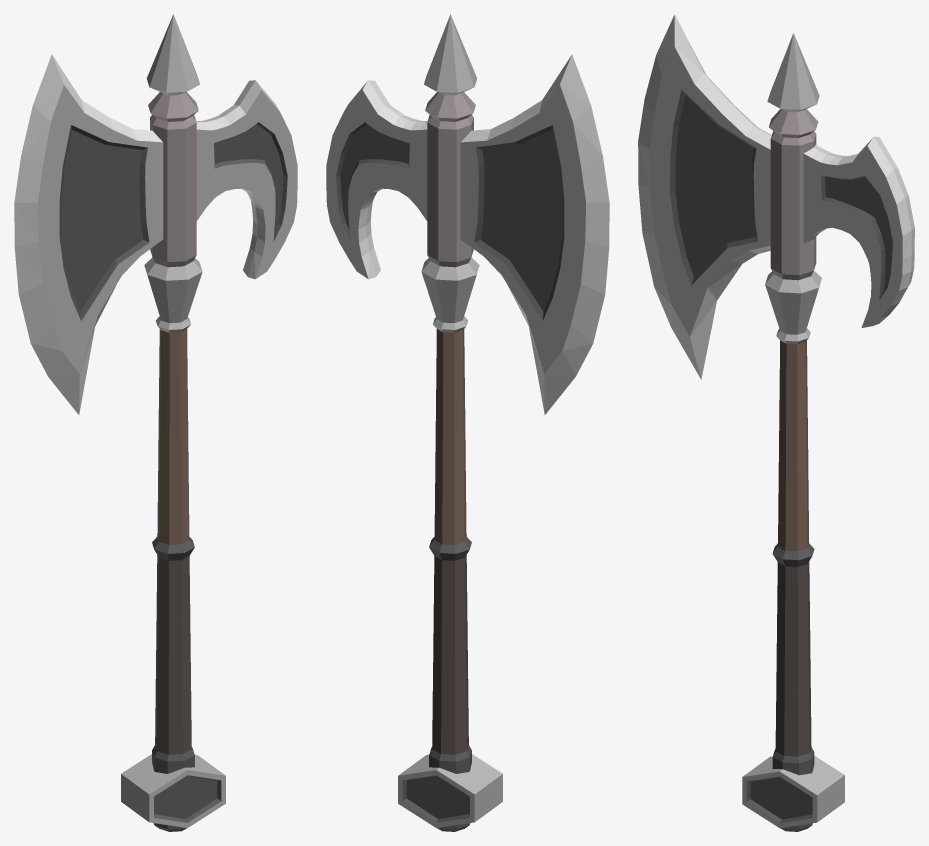
File: SecondCoolAxe.fbx
The picture shows the model from 3 angles, left to right: view 1: azimuth 30°, elevation 25°; view 2: azimuth 150°, elevation 25°; view 3: azimuth 330°, elevation 25°; orthographic projection. The views are drawn at different scales.
Parts seen in each view (by area): view 1: Axe 01; view 2: Axe 01; view 3: Axe 01.
Part boxes in pixels (x1=…): Axe 01: x1=14, y1=14, x2=297, y2=831; Axe 01: x1=326, y1=14, x2=609, y2=831; Axe 01: x1=638, y1=14, x2=914, y2=831.
Bounding box in the file's own units: 39.74 × 110 × 7.41.
